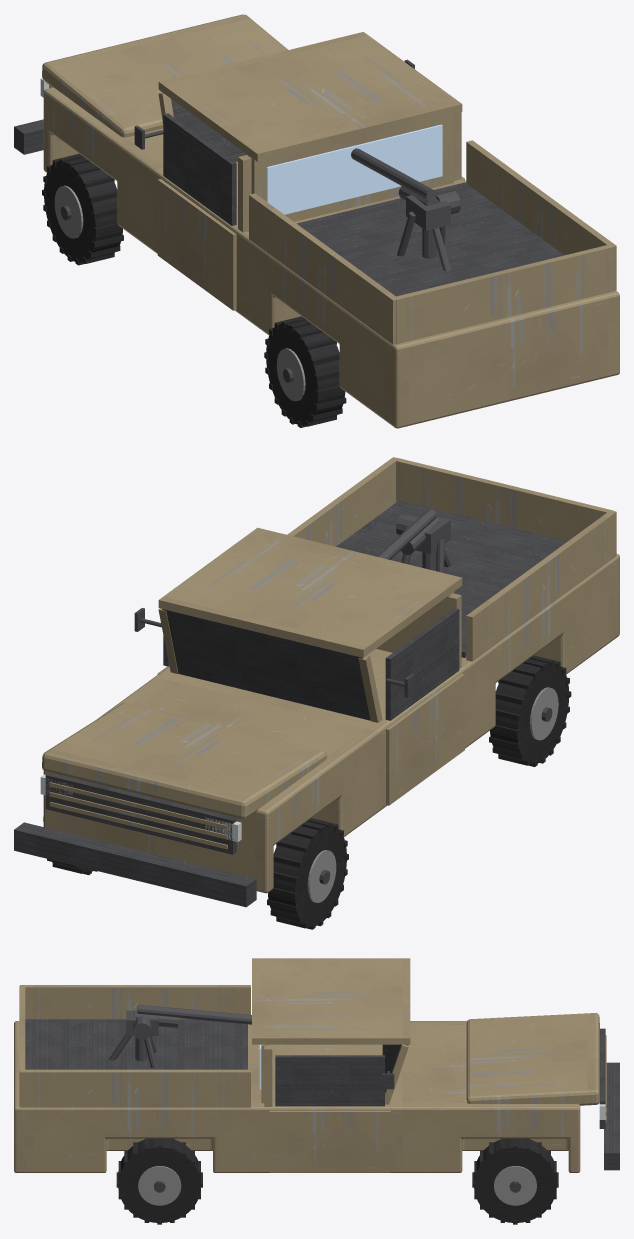
File: technical.glb
3 renders of one model, top to bottom at view 1: azimuth 30°, elevation 25°; view 2: azimuth 150°, elevation 25°; view 3: azimuth 270°, elevation 25°, orthographic. The views are drawn at different scales.
Visible parts, largest first — view 1: technical; view 2: technical; view 3: technical.
Boxes of the visible parts, x1,y1,x2,y2 form: technical: (14, 14, 619, 428); technical: (14, 457, 619, 929); technical: (14, 958, 619, 1224).
Bounding box in the file's own units: 2.18 × 1.69 × 5.25.
7 materials, 3 textured.
